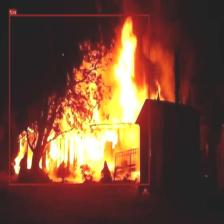fire: (9, 14, 150, 185)
